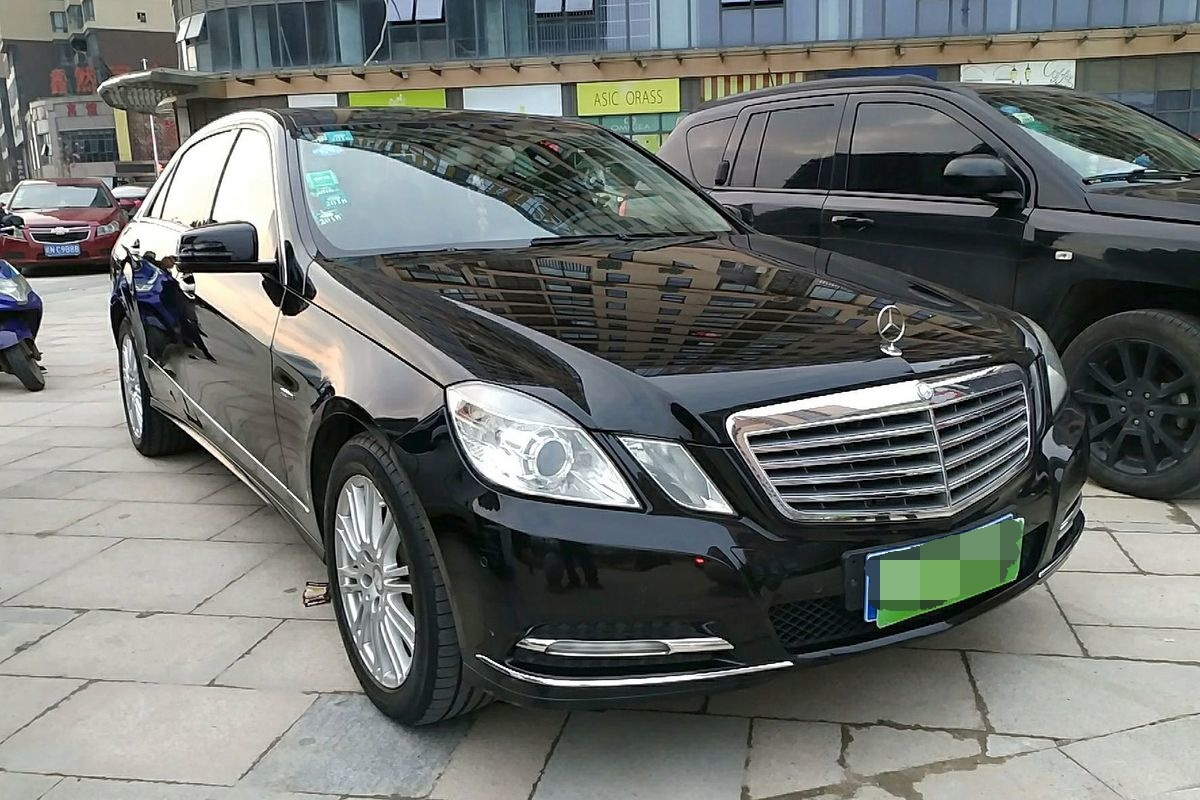family sedan: (114, 105, 1087, 709)
